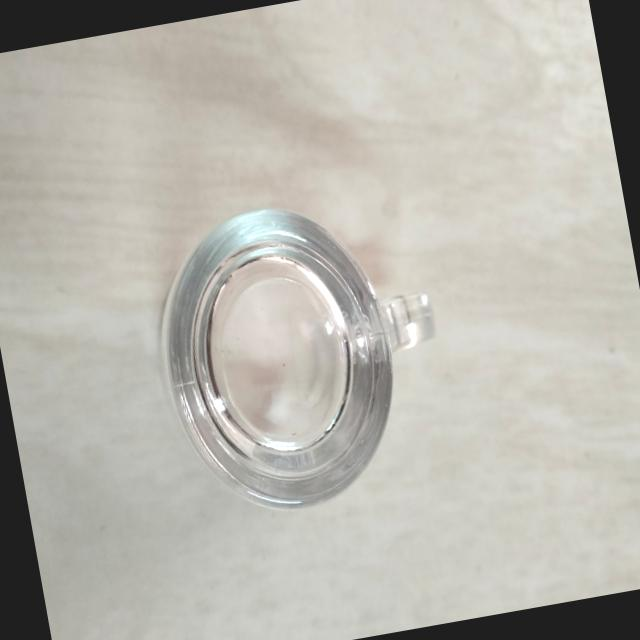glass-VX4N: (136, 175, 463, 538)
